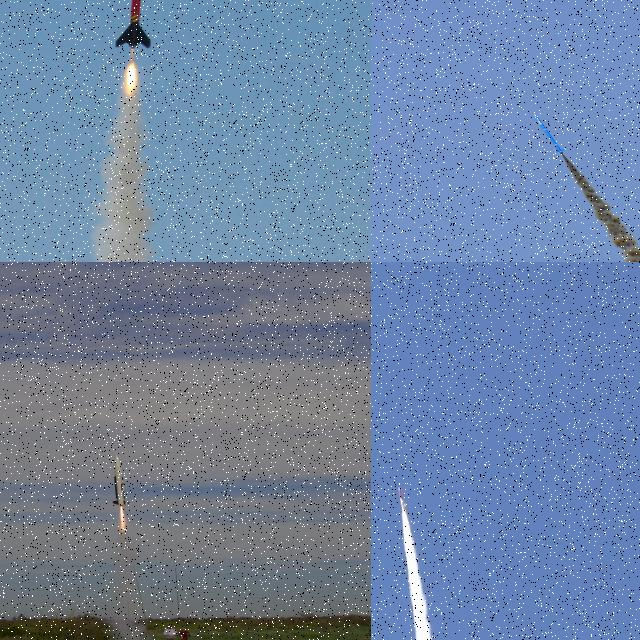Rocket: (114, 0, 152, 49), (533, 114, 567, 155), (112, 454, 130, 506), (399, 485, 405, 508)
